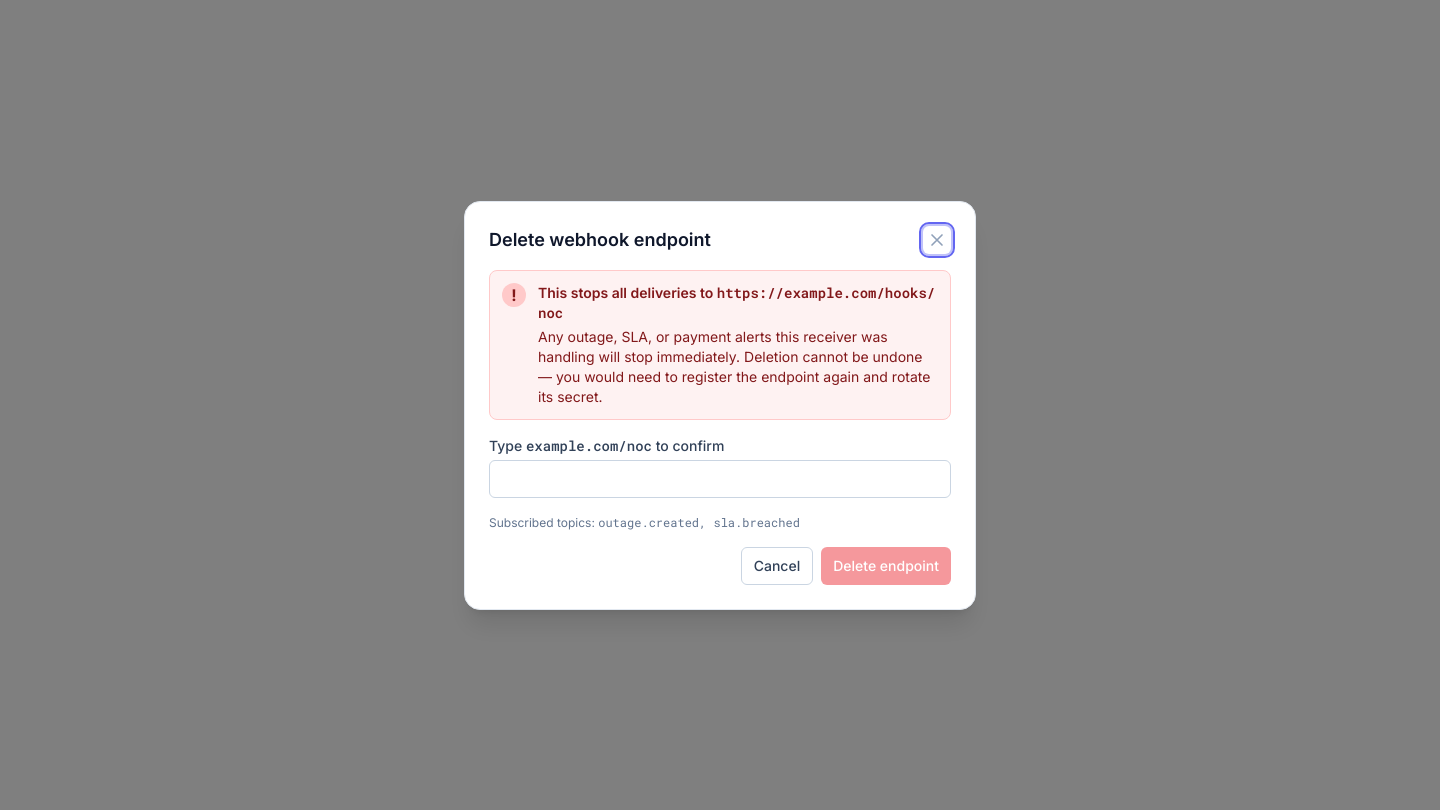
Test: DeleteWebhookModal › deletes the endpoint and confirms with a toast
The width and height of the screenshot is (1440, 810).
Type "example.com/noc" into the field with test id "delete-confirm-input" at coordinates (720, 478), box 489,460 -> 951,498
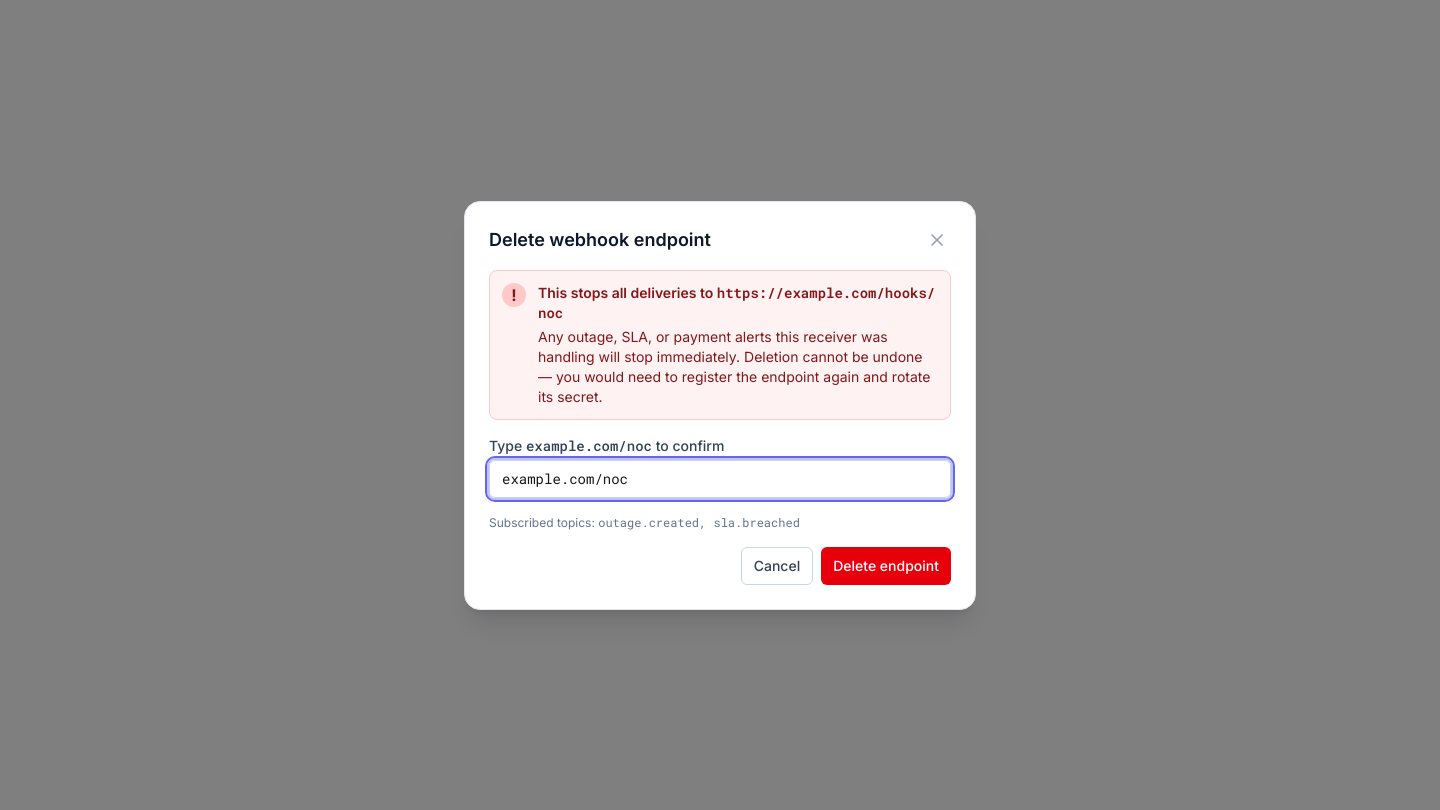
Click the button with test id "delete-confirm-button" at coordinates (886, 566), box 821,546 -> 951,584
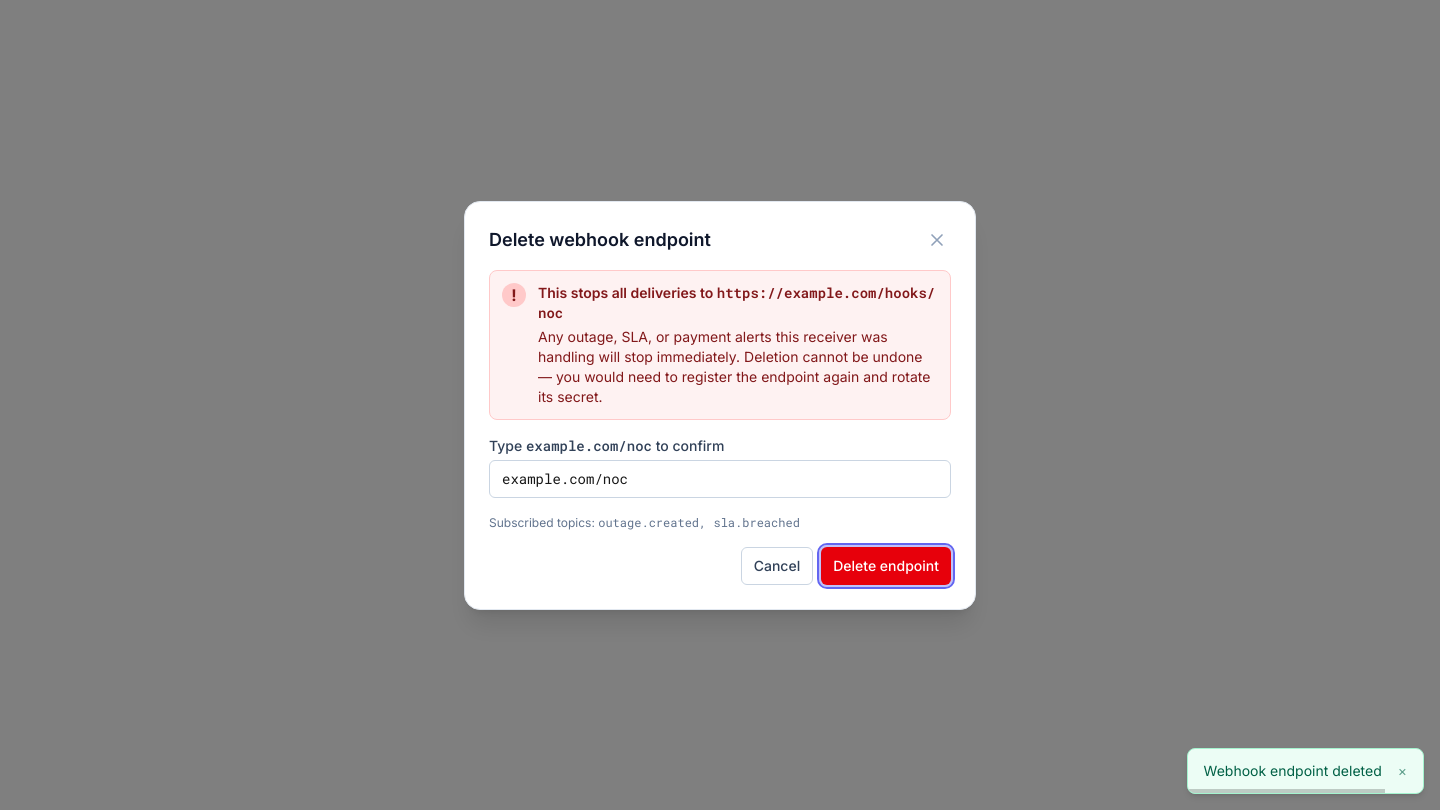
expect the text "Webhook endpoint deleted" is shown: met, box 1204,761 -> 1382,781
